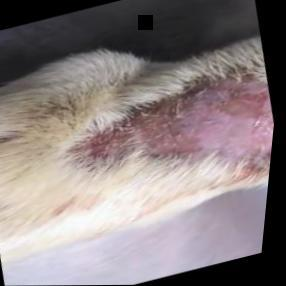skin_lesions: (72, 59, 282, 210)
